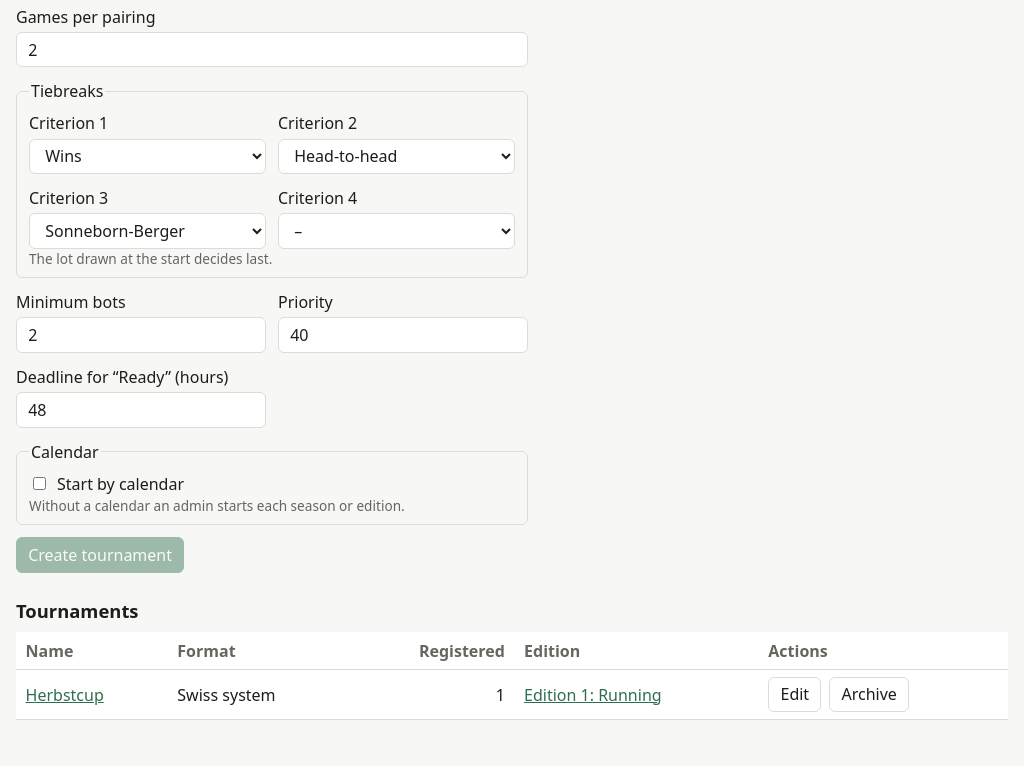
Test case: admin tournaments › changes a tournament without its format or discipline
The image size is (1024, 766).
(page scrolled)
Click the button "Edit" at (795, 694), box [768,677,821,712]
(page scrolled)
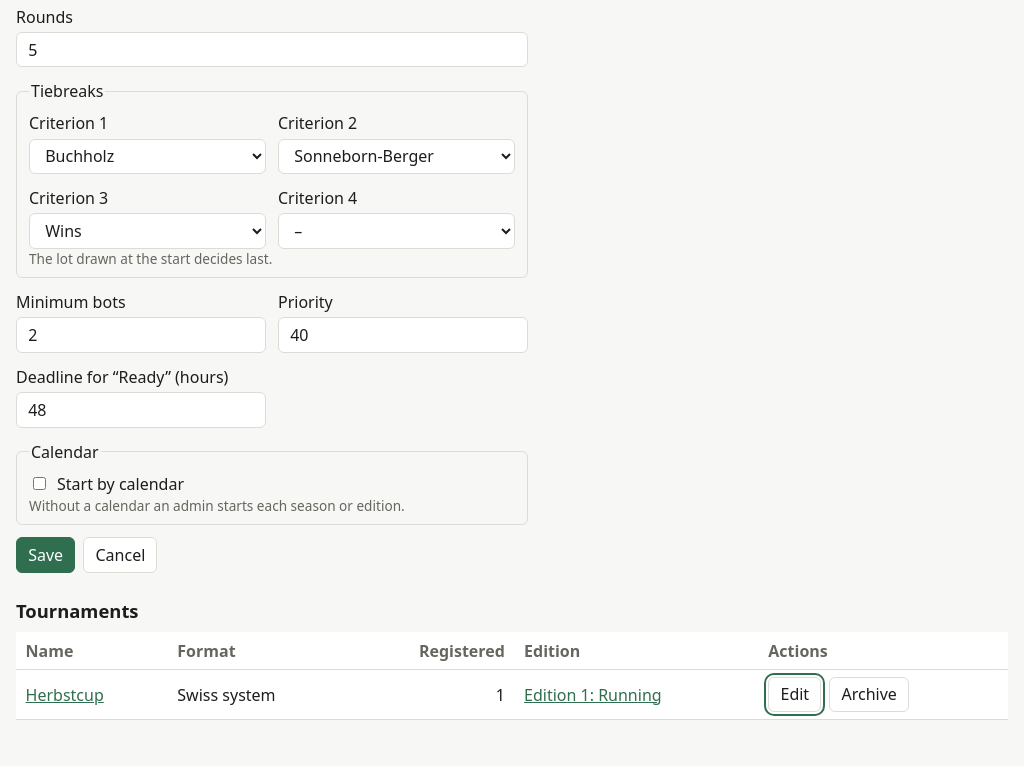
Replace the text in the number field labelled "Rounds" with "7" at (272, 50), box [16,32,528,67]
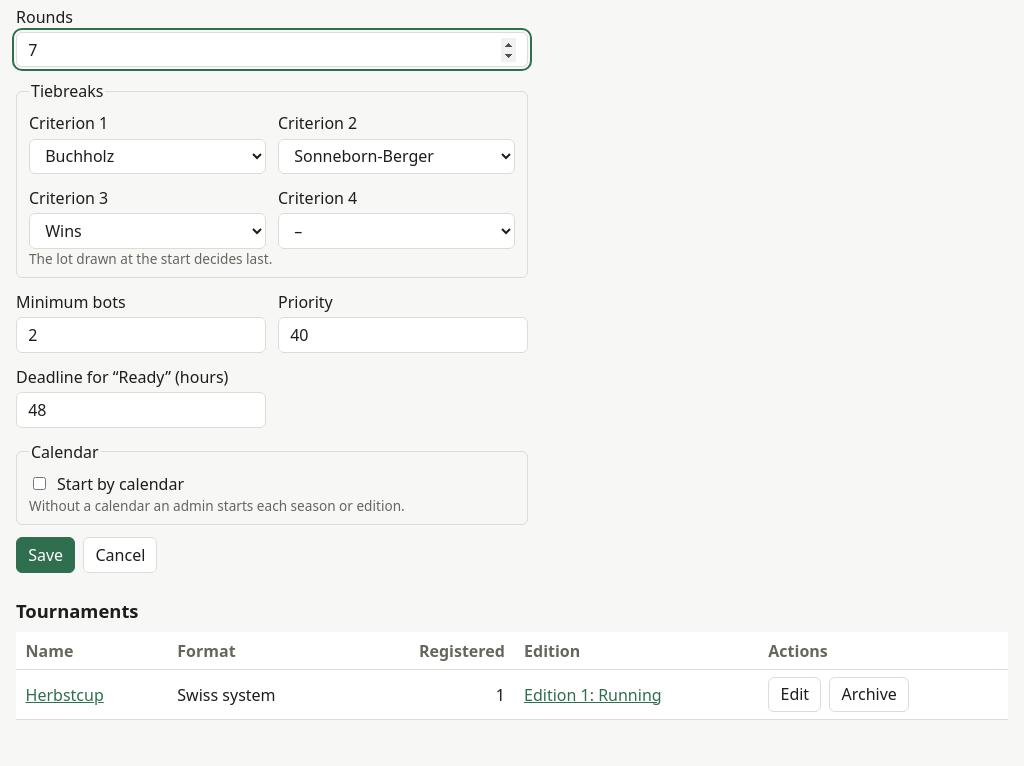
Click the button "Save" at (46, 555), box [16,537,75,573]
(page scrolled)
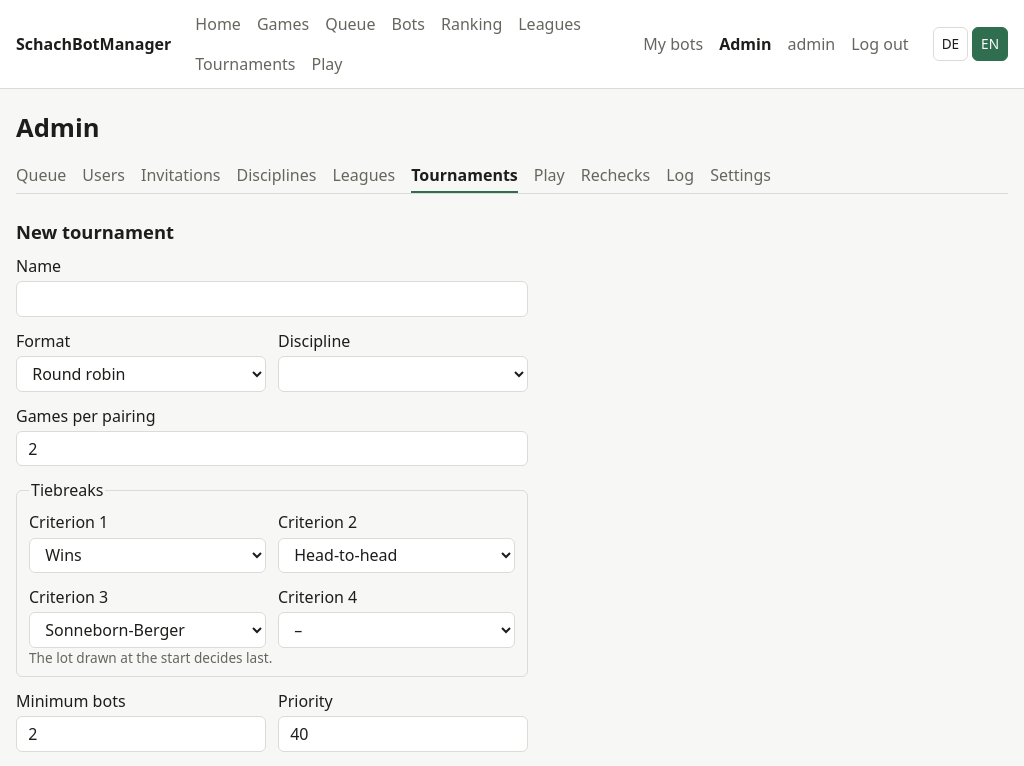
Result: the heading "New tournament" is shown at [16,219,174,244]
